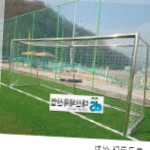goals: (8, 32, 150, 138)
